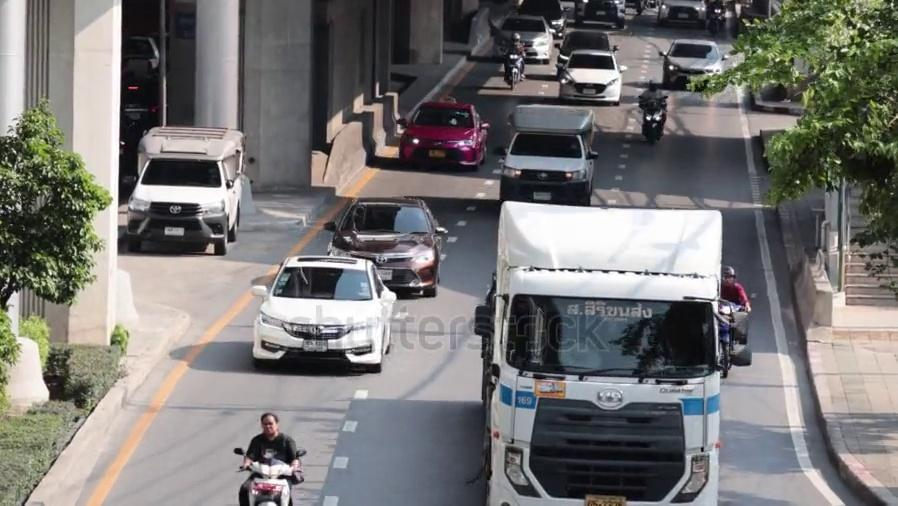rider: (239, 412, 300, 505), (718, 260, 754, 368), (639, 76, 671, 143), (501, 32, 527, 82), (708, 0, 727, 41)
with_helmate: (721, 264, 738, 289), (509, 31, 521, 48), (645, 80, 659, 94)
without_helmate: (256, 414, 279, 437)
